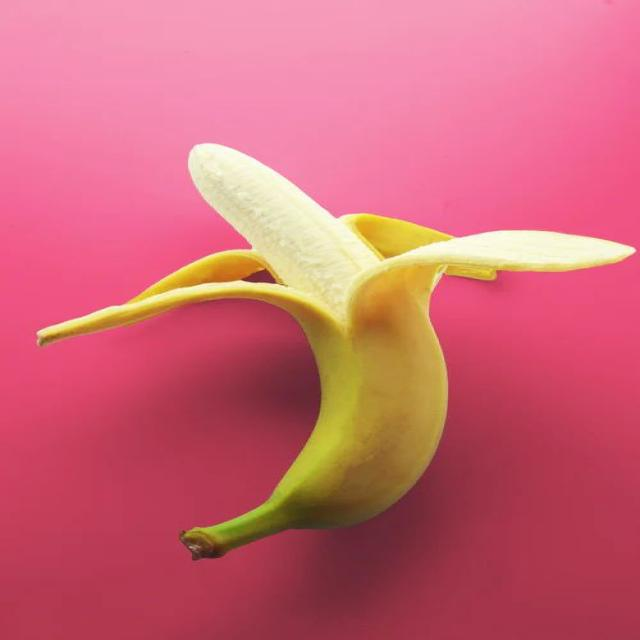banana: (39, 145, 634, 559)
